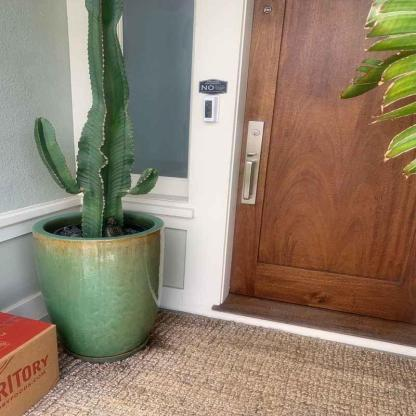package: (1, 311, 60, 416)
